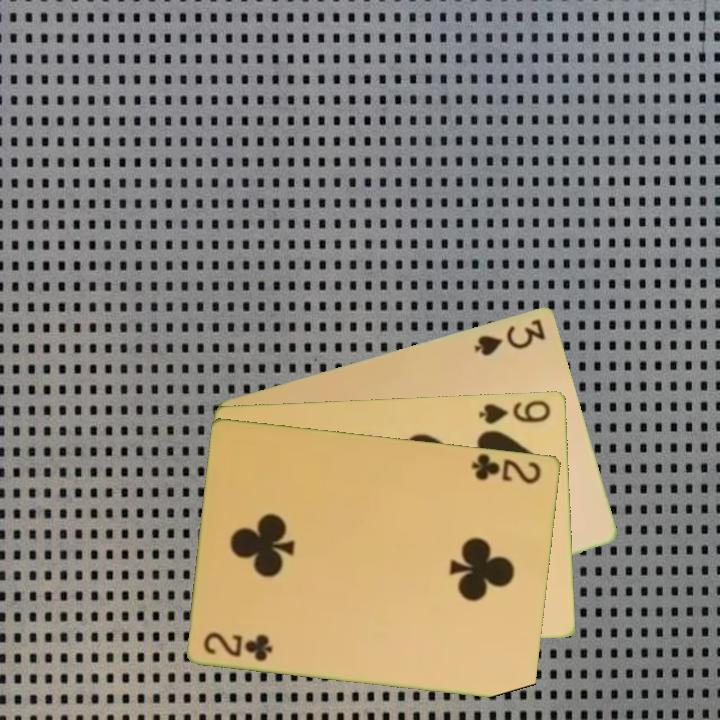2c: (468, 450, 545, 486), (201, 628, 276, 664)
3s: (470, 315, 549, 359)
9s: (476, 396, 554, 426)
